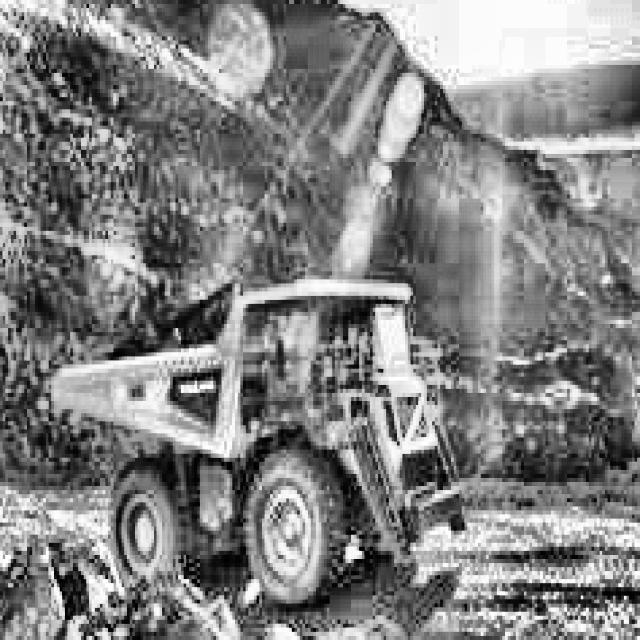dump_truck: (40, 227, 478, 636)
